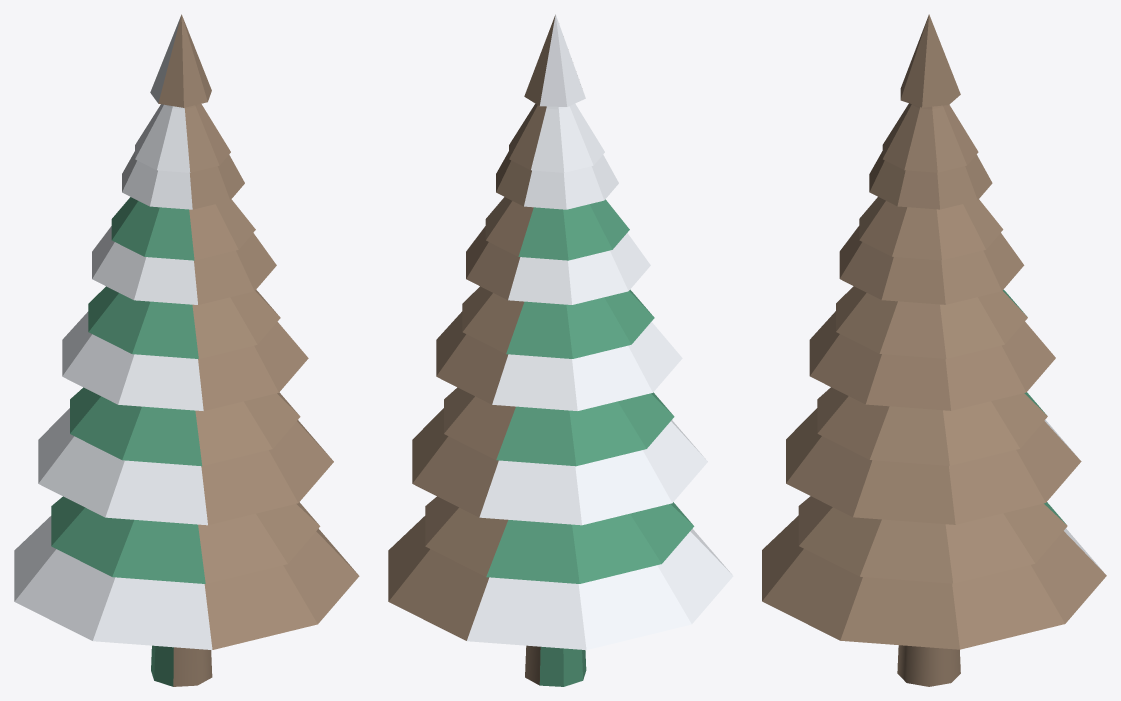
The model's file is tree_pine.glb.
The picture shows the model from 3 angles, left to right: view 1: azimuth 30°, elevation 25°; view 2: azimuth 150°, elevation 25°; view 3: azimuth 270°, elevation 25°; orthographic projection.
Visible parts, largest first — view 1: Tree_Pine; view 2: Tree_Pine; view 3: Tree_Pine.
Boxes of the visible parts, left/top/right/bottom form: Tree_Pine: left=14, top=14, right=359, bottom=686; Tree_Pine: left=388, top=14, right=733, bottom=686; Tree_Pine: left=762, top=14, right=1106, bottom=686.
Size of the model in its own units: 5.51 by 11.46 by 5.43.
